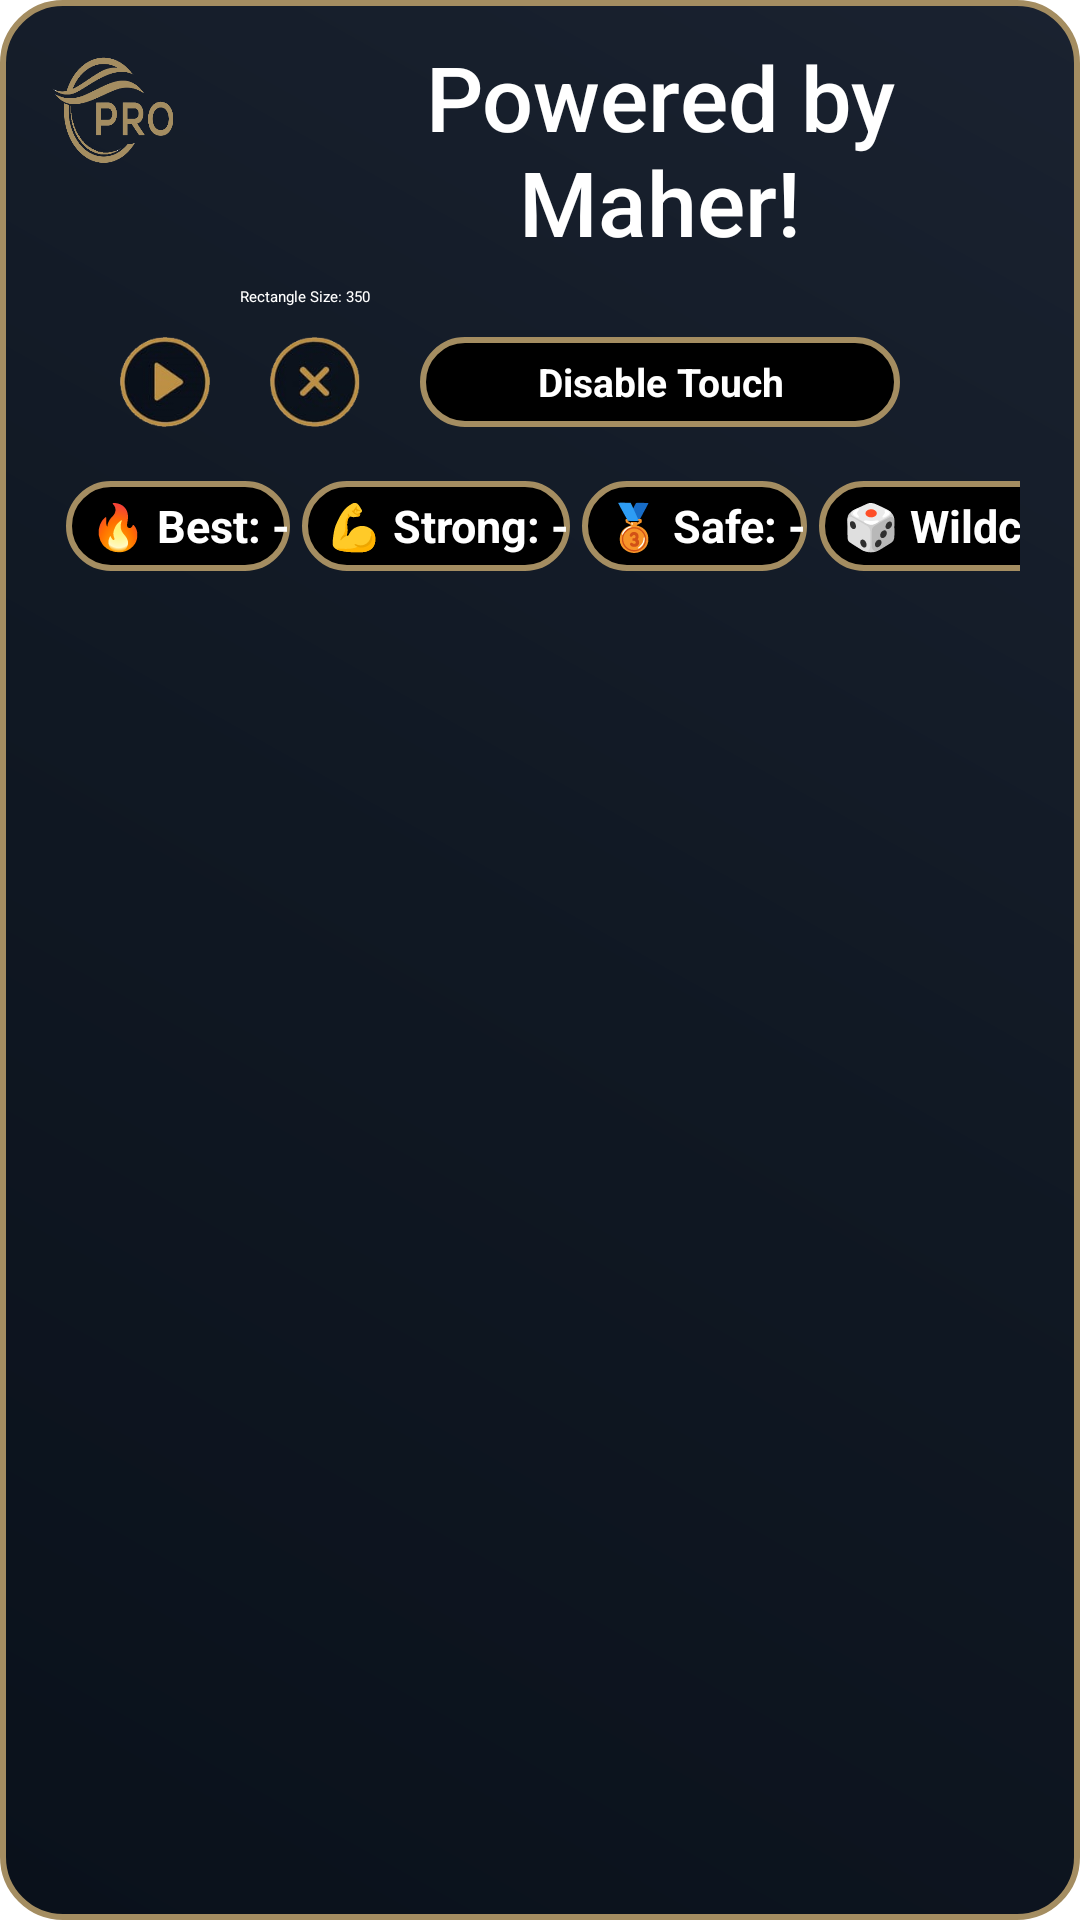

Icons on this 1080 × 1920 Android screen, each with its box as (x1, y1, x2, y2):
closeicon: (270, 337, 360, 427)
starticon: (120, 337, 210, 427)
